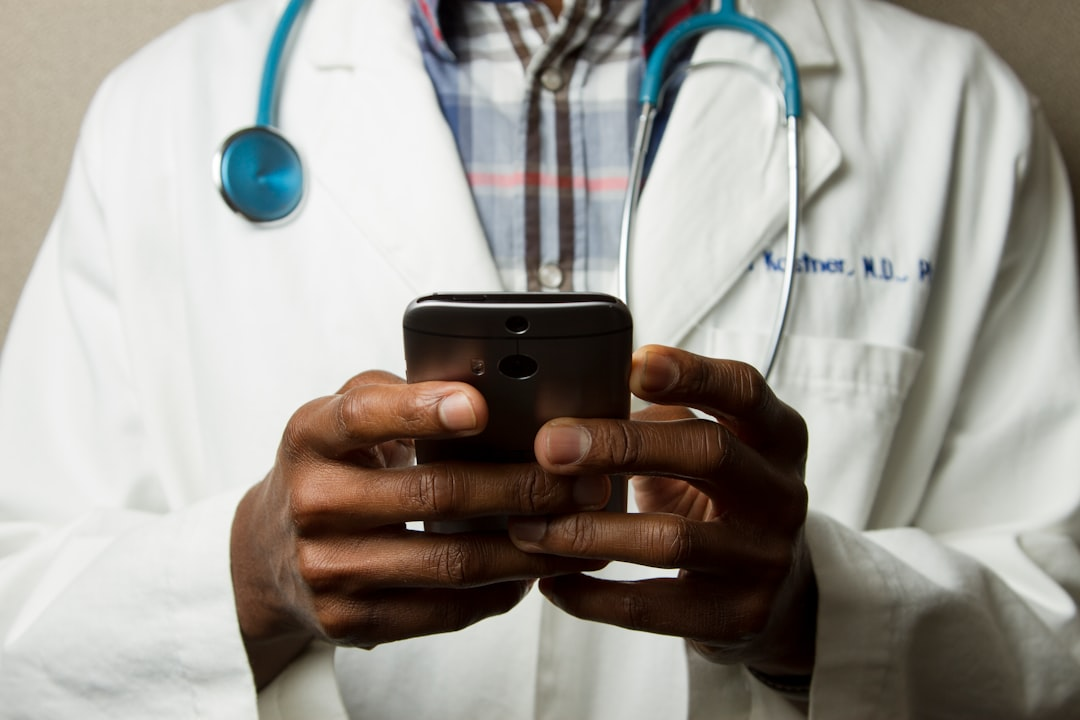phone: (403, 286, 638, 573)
